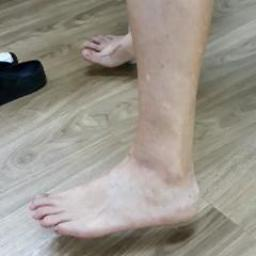Lateral View -Left Foot-: (14, 120, 235, 250)
